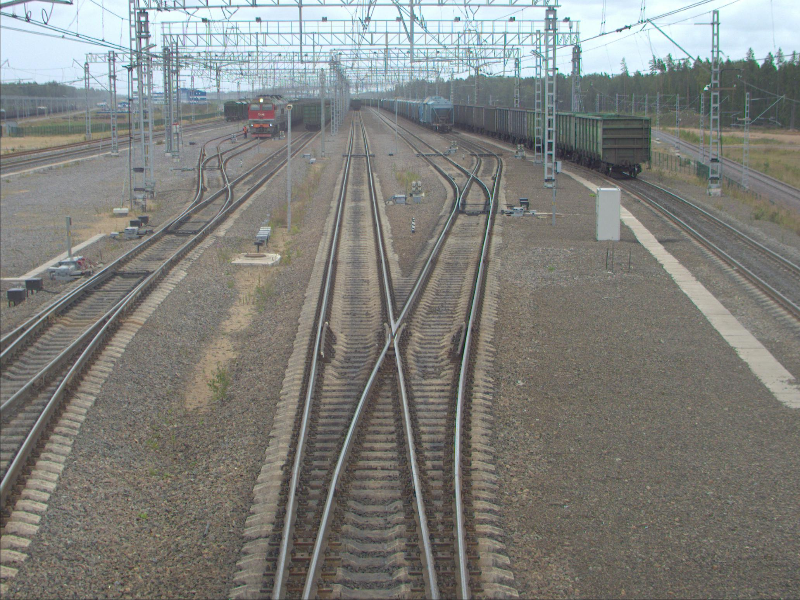left: (451, 186, 495, 215)
